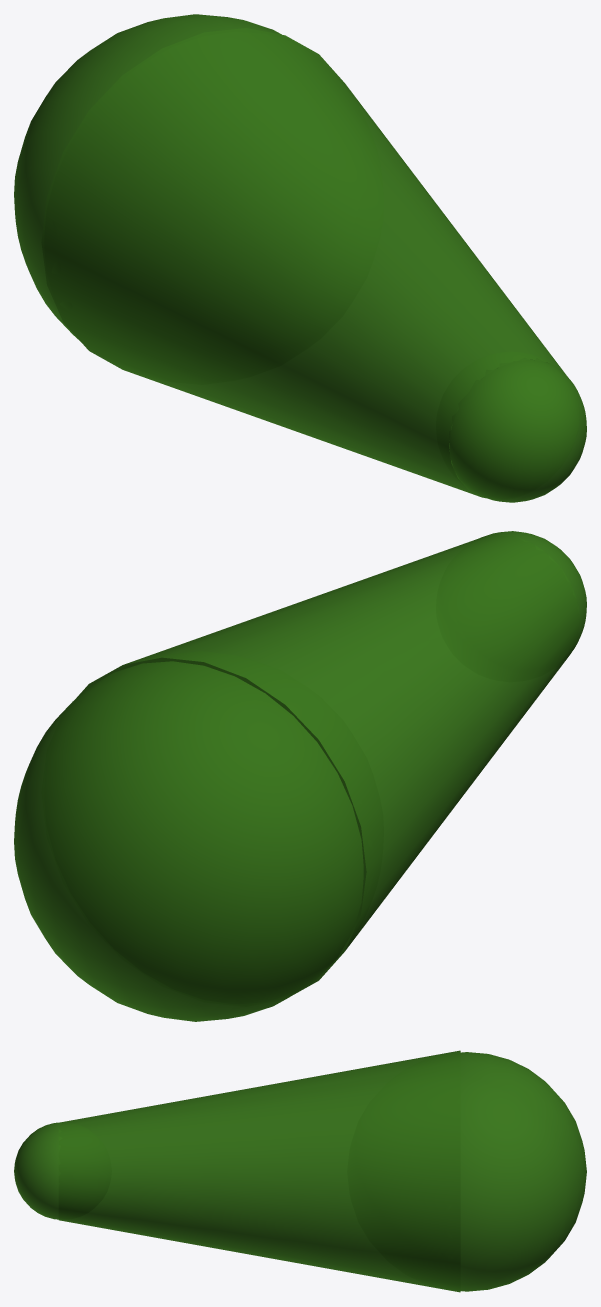
The model's file is Blood02.FBX.
The picture shows the model from 3 angles, top to bottom: view 1: azimuth 30°, elevation 25°; view 2: azimuth 150°, elevation 25°; view 3: azimuth 270°, elevation 25°; orthographic projection. The views are drawn at different scales.
Visible parts, largest first — view 1: Cone01, Sphere02, Sphere01; view 2: Sphere01, Cone01, Sphere02; view 3: Cone01, Sphere01, Sphere02.
Part boxes in pixels (x1,y1,x2,y2): Cone01: (41,28,567,498); Sphere02: (449,357,586,502); Sphere01: (14,14,281,370); Sphere01: (14,661,373,1021); Cone01: (76,534,580,994); Sphere02: (481,531,586,651); Cone01: (58,1050,460,1292); Sphere01: (441,1052,586,1291); Sphere02: (14,1122,62,1219).
Size of the model in its own units: 137 by 323 by 137.
